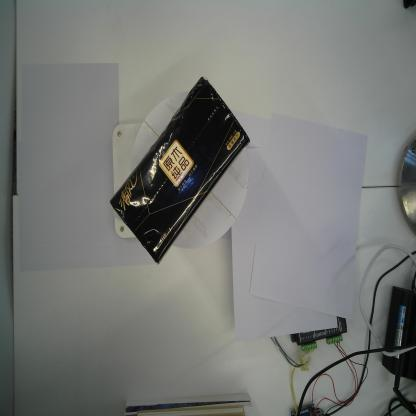Tissue: (108, 74, 250, 266)
